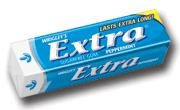grozi_5: (7, 8, 171, 100)
